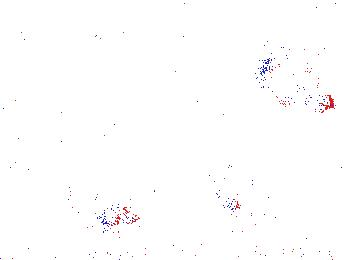flame jellyfish: (253, 49, 336, 115), (55, 172, 141, 229), (196, 160, 256, 217)
